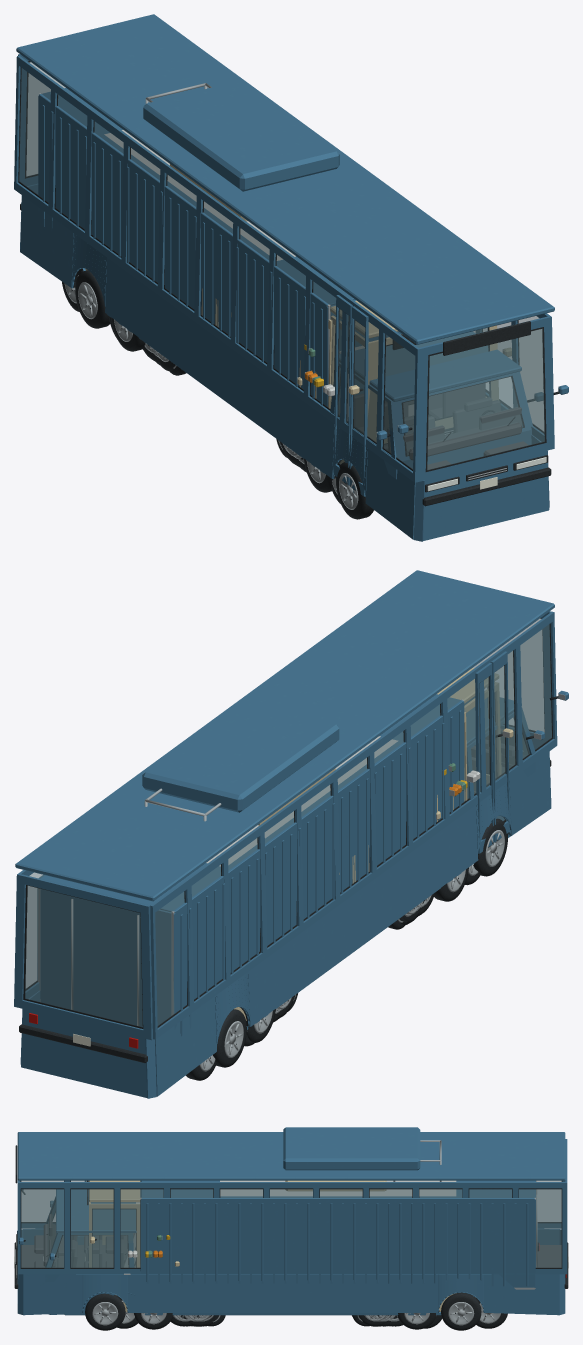
Rendered from vehicle_01.glb.
3 renders of one model, top to bottom at view 1: azimuth 30°, elevation 25°; view 2: azimuth 150°, elevation 25°; view 3: azimuth 270°, elevation 25°, orthographic. The views are drawn at different scales.
Parts seen in each view (by area): view 1: vehicle_026_Body_Paint_LOD0, vehicle_034_Body_Paint_LOD0, vehicle_026_Body_Glass_LOD0, vehicle_026_Body_Rubber_LOD0, vehicle_034_Body_Glass_LOD0, vehicle_024_Body_Paint_LOD0, vehicle_034_Body_Interior_LOD0, vehicle_026_Body_Interior_LOD0, vehicle_029_Body_Paint_LOD0, vehicle_024_Body_Glass_LOD0, vehicle_026_Wheel_02_Rubber_LOD0, vehicle_026_Wheel_00_Rubber_LOD0 (+1 smaller); view 2: vehicle_026_Body_Paint_LOD0, vehicle_034_Body_Paint_LOD0, vehicle_026_Body_Glass_LOD0, vehicle_026_Body_Rubber_LOD0, vehicle_024_Body_Paint_LOD0, vehicle_034_Body_Metal_LOD0, vehicle_029_Body_Paint_LOD0, vehicle_026_Wheel_02_Rubber_LOD0, vehicle_026_Wheel_00_Rubber_LOD0; view 3: vehicle_026_Body_Paint_LOD0, vehicle_034_Body_Paint_LOD0, vehicle_026_Body_Glass_LOD0, vehicle_026_Body_Rubber_LOD0, vehicle_024_Body_Paint_LOD0, vehicle_026_Body_Interior_LOD0, vehicle_029_Body_Paint_LOD0, vehicle_034_Body_Glass_LOD0, vehicle_024_Body_Glass_LOD0, vehicle_026_Wheel_03_Rubber_LOD0, vehicle_026_Wheel_01_Rubber_LOD0, vehicle_034_Body_Interior_LOD0 (+5 smaller).
Part boxes in pixels (<box>): vehicle_026_Body_Paint_LOD0: <box>14,14,568,541</box>; vehicle_034_Body_Paint_LOD0: <box>38,88,543,492</box>; vehicle_026_Body_Glass_LOD0: <box>19,62,544,469</box>; vehicle_026_Body_Rubber_LOD0: <box>18,61,559,506</box>; vehicle_034_Body_Glass_LOD0: <box>367,377,522,455</box>; vehicle_024_Body_Paint_LOD0: <box>85,164,511,478</box>; vehicle_034_Body_Interior_LOD0: <box>387,397,521,460</box>; vehicle_026_Body_Interior_LOD0: <box>384,383,528,469</box>; vehicle_029_Body_Paint_LOD0: <box>104,130,413,416</box>; vehicle_024_Body_Glass_LOD0: <box>385,328,488,375</box>; vehicle_026_Wheel_02_Rubber_LOD0: <box>75,270,110,328</box>; vehicle_026_Wheel_00_Rubber_LOD0: <box>336,462,373,519</box>; vehicle_026_Body_Paint_LOD0: <box>14,570,568,1098</box>; vehicle_034_Body_Paint_LOD0: <box>37,694,544,1036</box>; vehicle_026_Body_Glass_LOD0: <box>25,618,551,1026</box>; vehicle_026_Body_Rubber_LOD0: <box>19,618,558,1062</box>; vehicle_024_Body_Paint_LOD0: <box>234,668,513,1020</box>; vehicle_034_Body_Metal_LOD0: <box>38,699,541,1025</box>; vehicle_029_Body_Paint_LOD0: <box>206,736,480,866</box>; vehicle_026_Wheel_02_Rubber_LOD0: <box>213,1009,246,1067</box>; vehicle_026_Wheel_00_Rubber_LOD0: <box>474,818,507,876</box>; vehicle_026_Body_Paint_LOD0: <box>17,1127,567,1315</box>; vehicle_034_Body_Paint_LOD0: <box>45,1180,535,1315</box>; vehicle_026_Body_Glass_LOD0: <box>21,1180,561,1267</box>; vehicle_026_Body_Rubber_LOD0: <box>14,1145,568,1288</box>; vehicle_024_Body_Paint_LOD0: <box>89,1180,475,1311</box>; vehicle_026_Body_Interior_LOD0: <box>21,1214,561,1267</box>; vehicle_029_Body_Paint_LOD0: <box>124,1180,456,1267</box>; vehicle_034_Body_Glass_LOD0: <box>47,1201,128,1267</box>; vehicle_024_Body_Glass_LOD0: <box>93,1209,135,1267</box>; vehicle_026_Wheel_03_Rubber_LOD0: <box>441,1292,481,1330</box>; vehicle_026_Wheel_01_Rubber_LOD0: <box>85,1293,125,1330</box>; vehicle_034_Body_Interior_LOD0: <box>43,1224,77,1267</box>.
Size of what is drawn, in the model's own units: 2.9 by 3.94 by 12.06.
6 materials, 4 textured.
